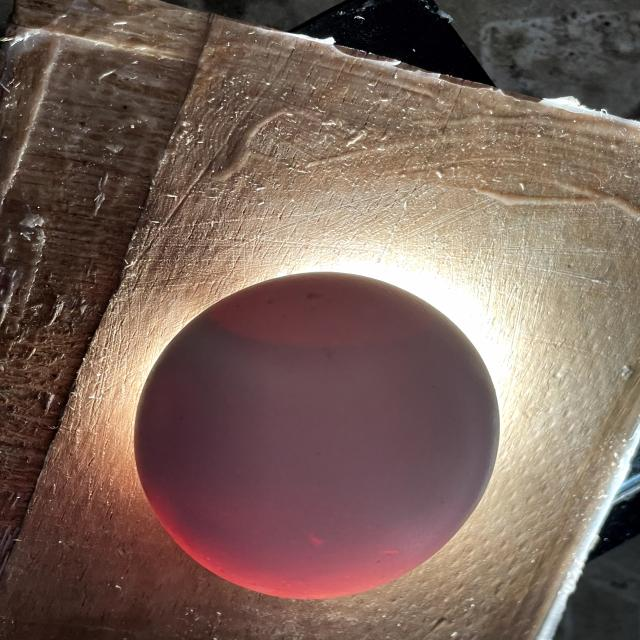fertile: (135, 272, 498, 599)
